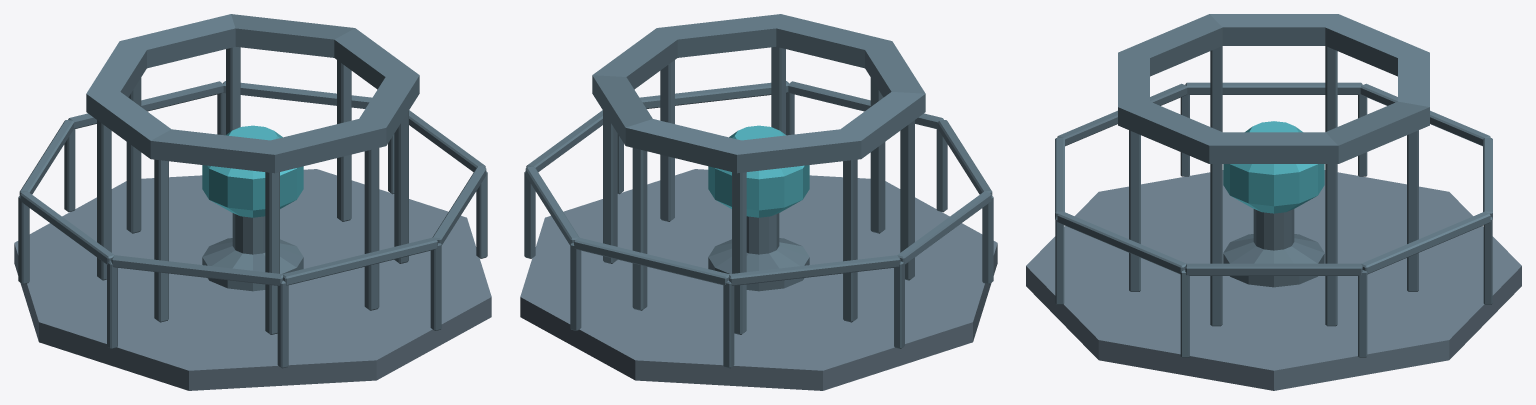
Rendered from EM_BeaconLantern.fbx.
3 views of the same model, side by side, from view 1: azimuth 30°, elevation 25°; view 2: azimuth 150°, elevation 25°; view 3: azimuth 270°, elevation 25° (orthographic).
Parts seen in each view (by area): view 1: EM_BeaconLantern; view 2: EM_BeaconLantern; view 3: EM_BeaconLantern.
Boxes of the visible parts, bbox=[...] form: EM_BeaconLantern: bbox=[14, 14, 491, 390]; EM_BeaconLantern: bbox=[520, 14, 997, 390]; EM_BeaconLantern: bbox=[1026, 14, 1521, 390].
Size of the model in its own units: 2.44 by 1.12 by 2.44.
